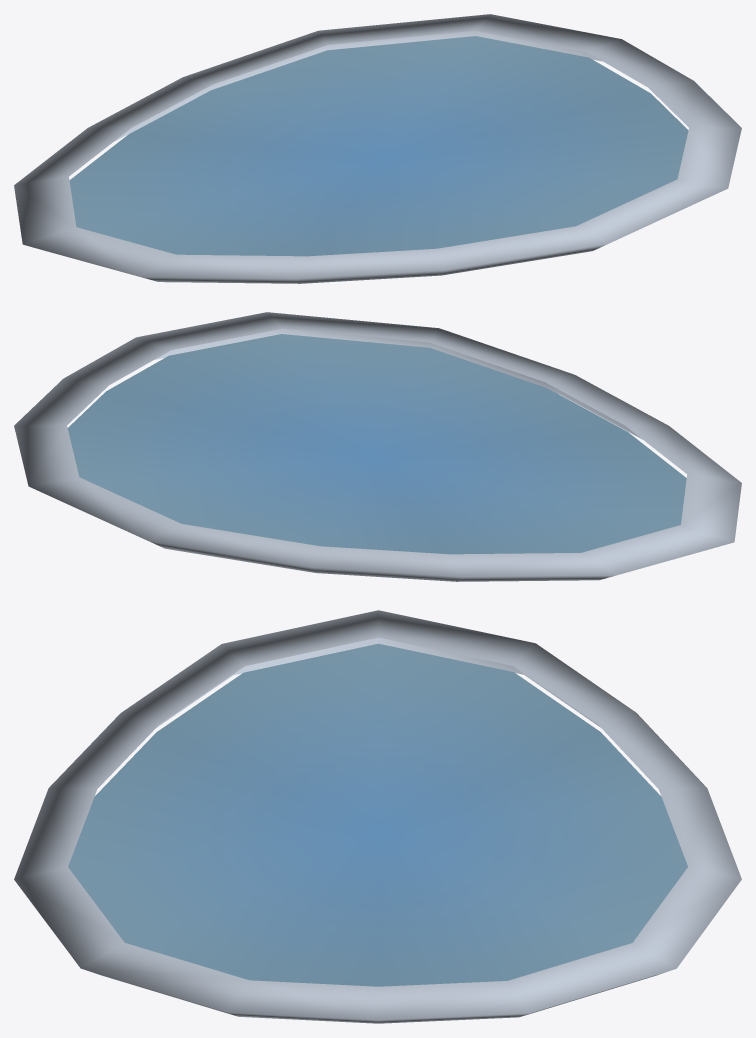
File: Alpine_FrozenPond.fbx
3 renders of one model, top to bottom at view 1: azimuth 30°, elevation 25°; view 2: azimuth 150°, elevation 25°; view 3: azimuth 270°, elevation 25°, orthographic. The views are drawn at different scales.
Parts seen in each view (by area): view 1: Alpine_FrozenPond; view 2: Alpine_FrozenPond; view 3: Alpine_FrozenPond.
Part boxes in pixels (<box>): Alpine_FrozenPond: <box>14,14,741,283</box>; Alpine_FrozenPond: <box>14,312,741,581</box>; Alpine_FrozenPond: <box>14,610,741,1023</box>.
Bounding box in the file's own units: 6.48 × 0.17 × 4.86.
